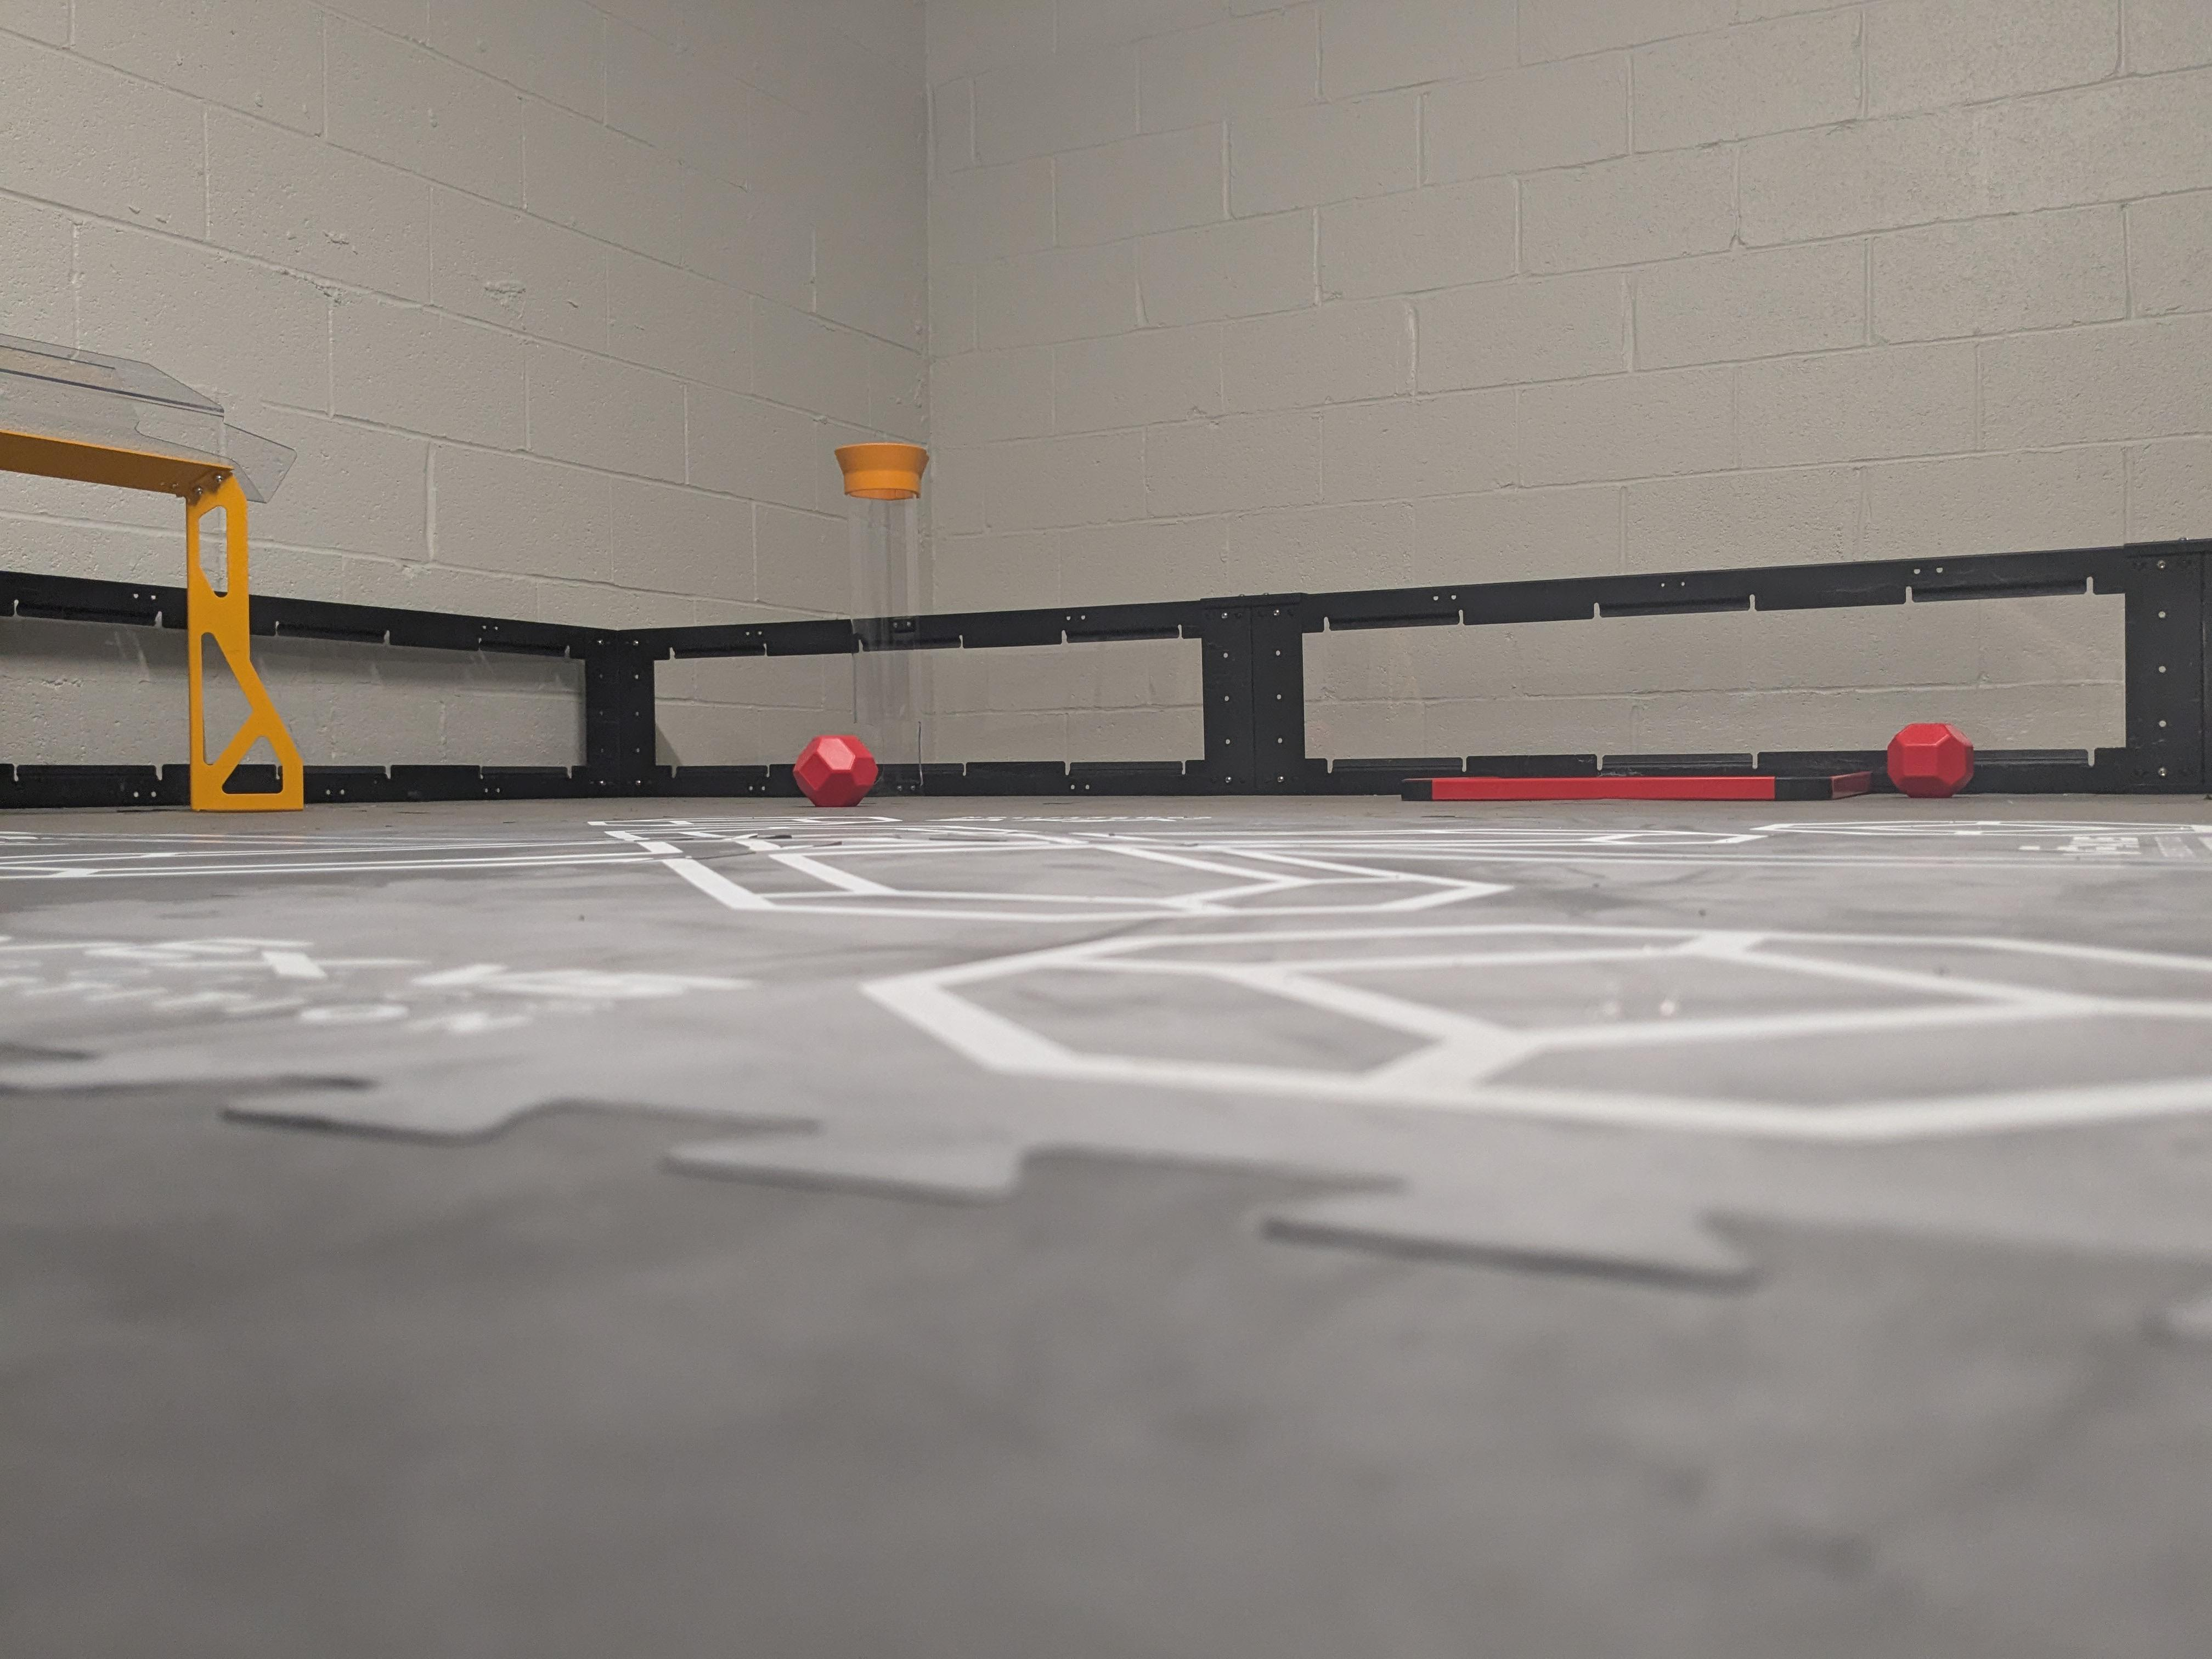Vex-Pieces-RED: (1886, 723, 1973, 796), (792, 735, 878, 807)
